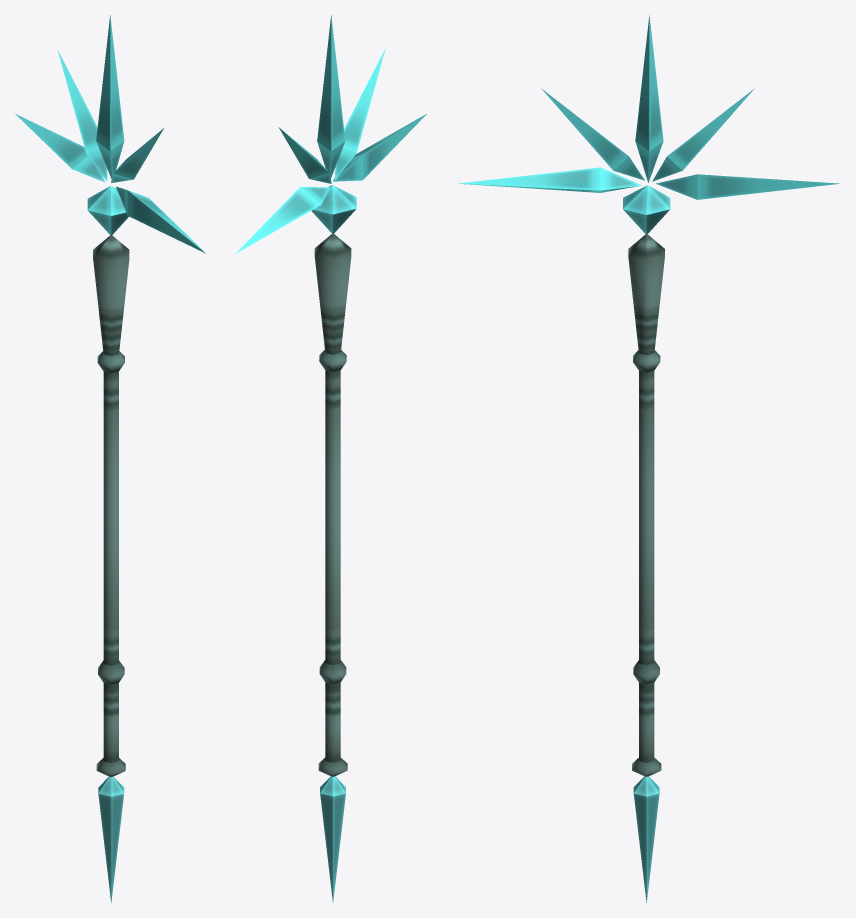
File: CrystalStaff.fbx
The picture shows the model from 3 angles, left to right: view 1: azimuth 30°, elevation 25°; view 2: azimuth 150°, elevation 25°; view 3: azimuth 270°, elevation 25°; orthographic projection.
Parts seen in each view (by area): view 1: polySurface18; view 2: polySurface18; view 3: polySurface18.
Part boxes in pixels (x1=…): polySurface18: x1=15, y1=15, x2=206, y2=902; polySurface18: x1=235, y1=15, x2=426, y2=902; polySurface18: x1=458, y1=14, x2=839, y2=902.
Bounding box in the file's own units: 5.32 × 95.44 × 37.42.
1 material, 1 textured.
